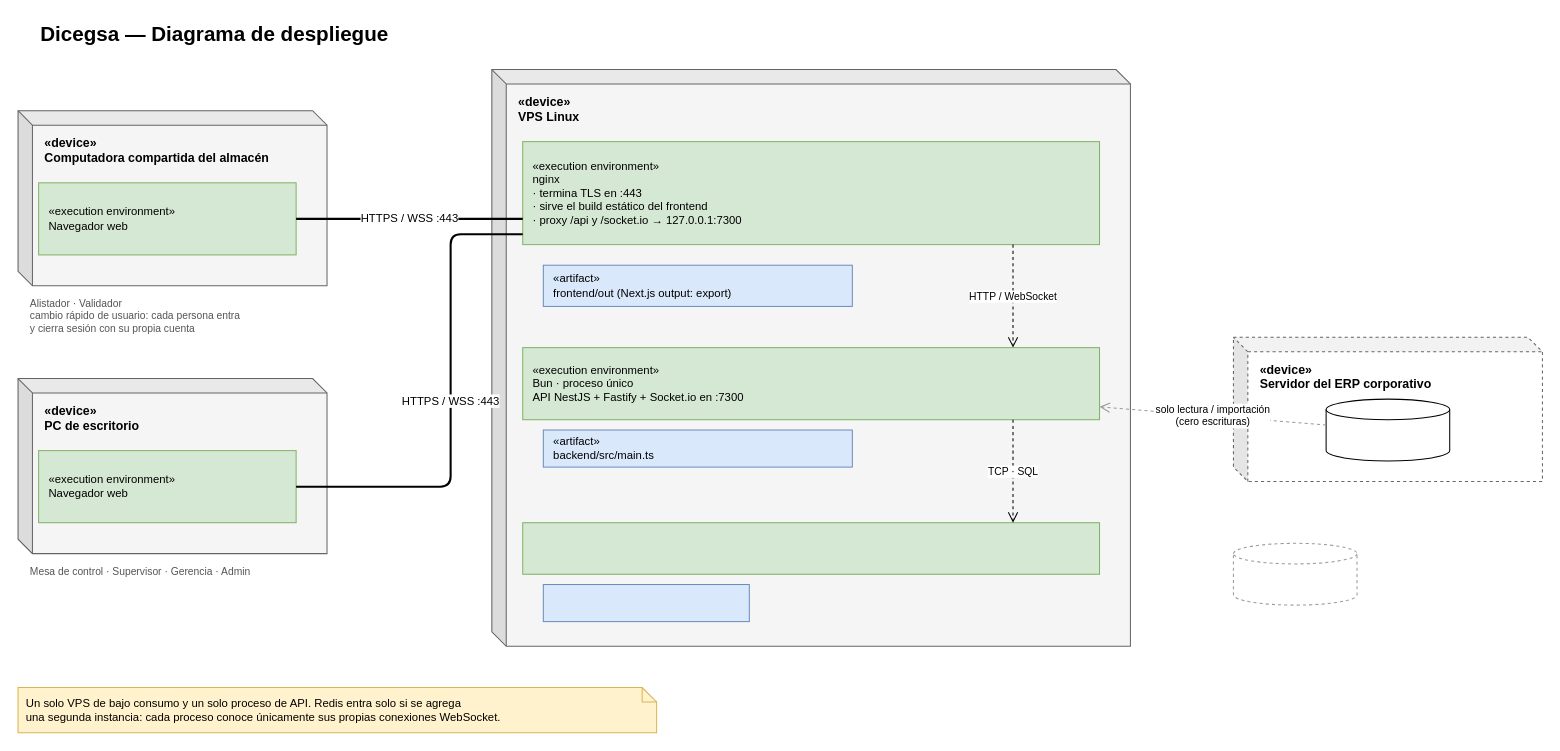
Some shapes in this 1560 by 751 pixel diagram are drawn without their labels. Here are the shapes that lost their labels. From the top down, the centre of each, then its label:
At (x=1387, y=429): "Base transaccional".
At (x=811, y=548): "«execution environment» PostgreSQL 17 (Docker) :7432".
At (x=1294, y=573): "Redis (opcional)".
At (x=645, y=602): "«artifact» volumen dicegsa-db".
